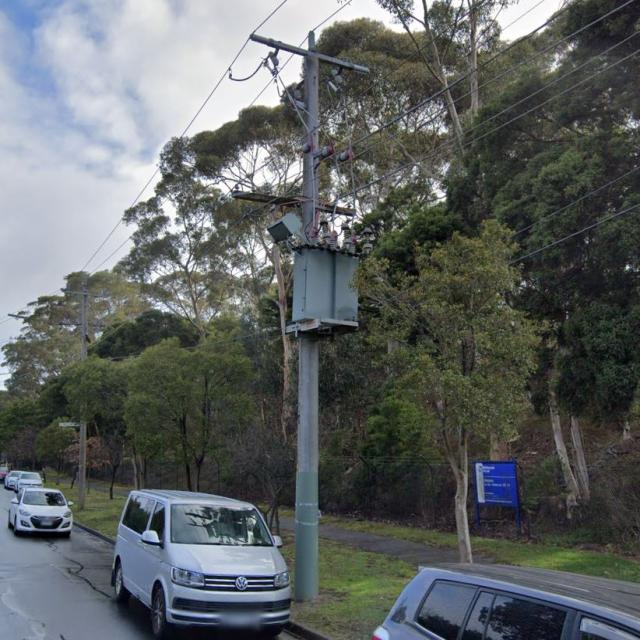HV-transmission: (248, 31, 369, 76)
concrete-pole: (292, 56, 322, 600)
crossarm: (249, 33, 371, 76), (233, 190, 358, 216)
transformer: (287, 236, 362, 344)
